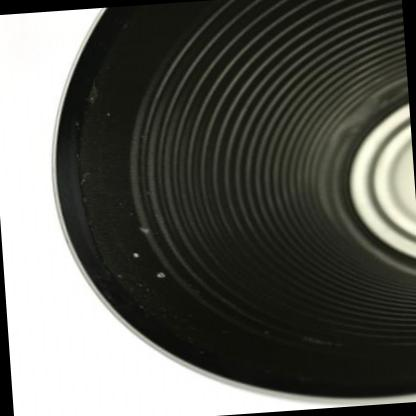Metal: (53, 0, 416, 400)
